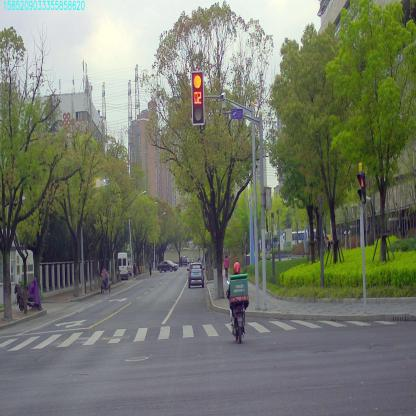traffic-light: (191, 72, 204, 124)
